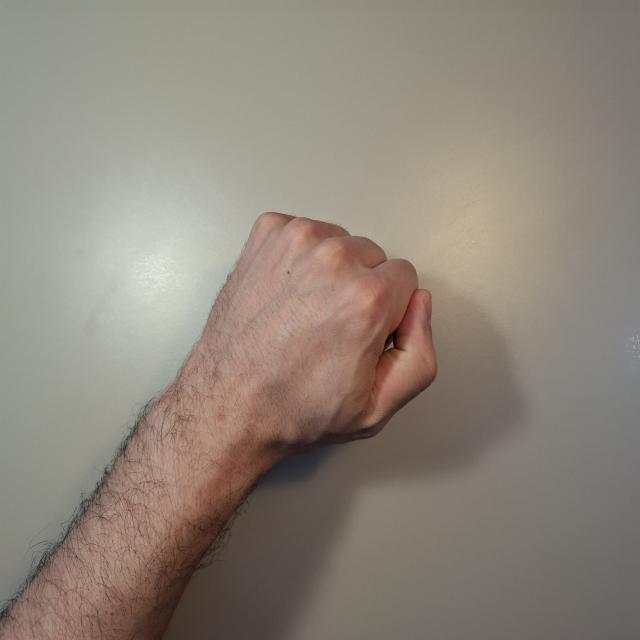glove_off: (200, 208, 440, 473)
